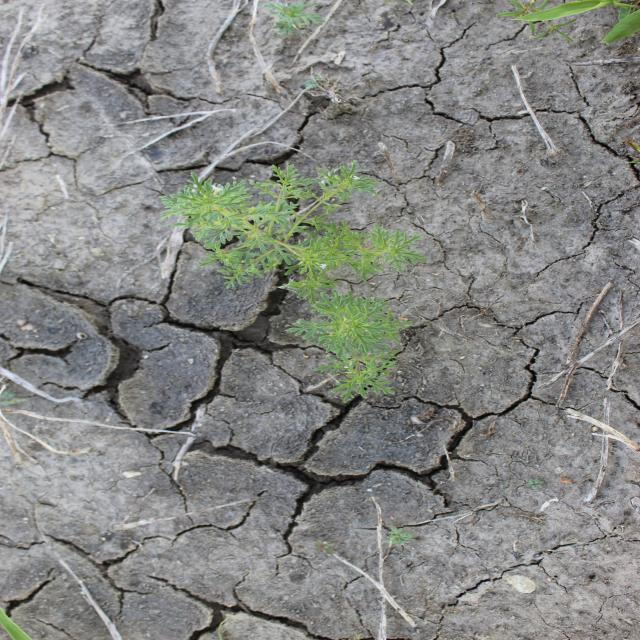Ragweed: (156, 158, 431, 306), (282, 289, 415, 405), (264, 2, 324, 37), (378, 526, 418, 549)
